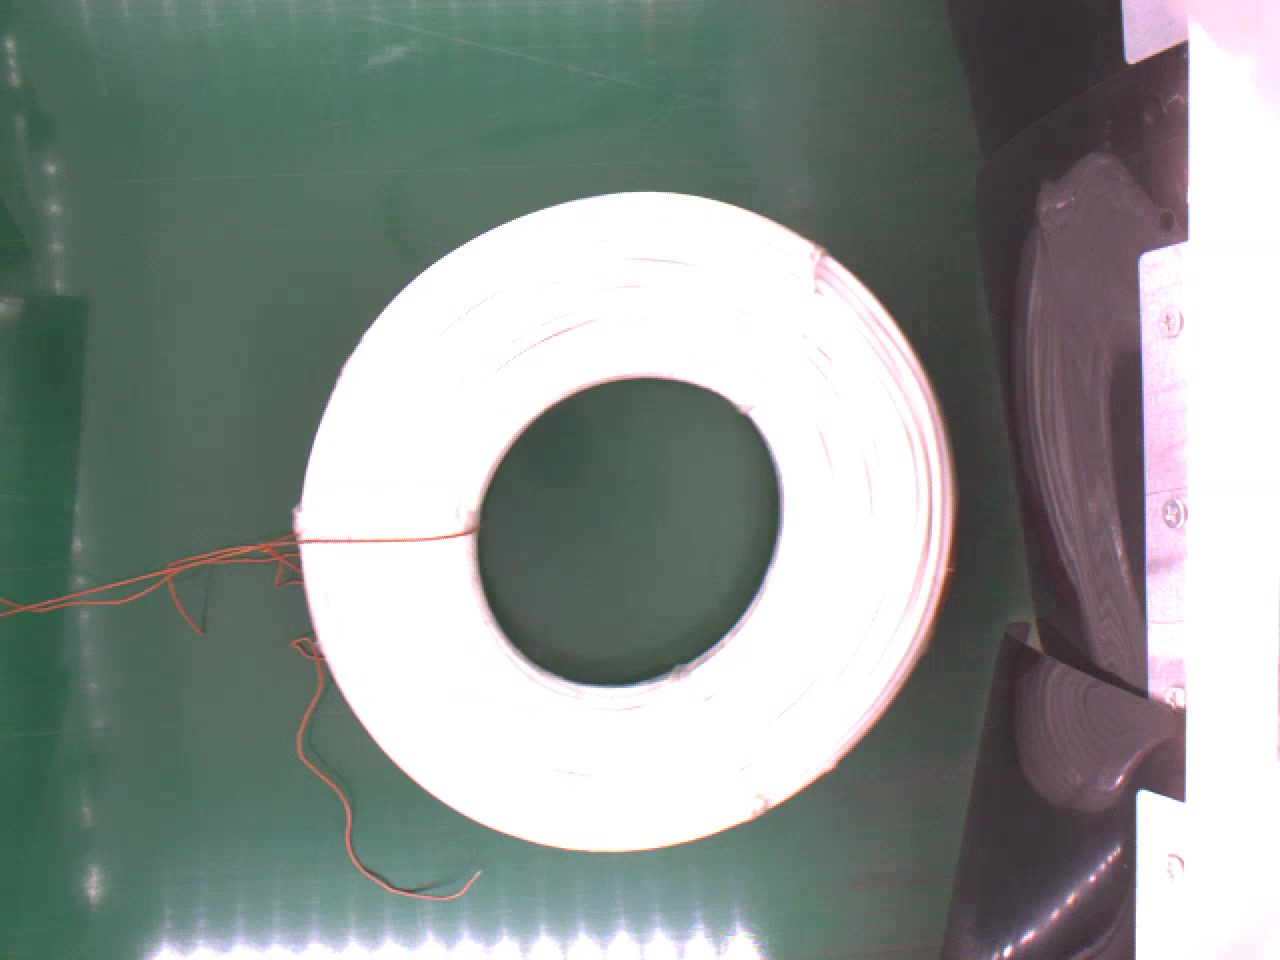white: (294, 188, 972, 860)
